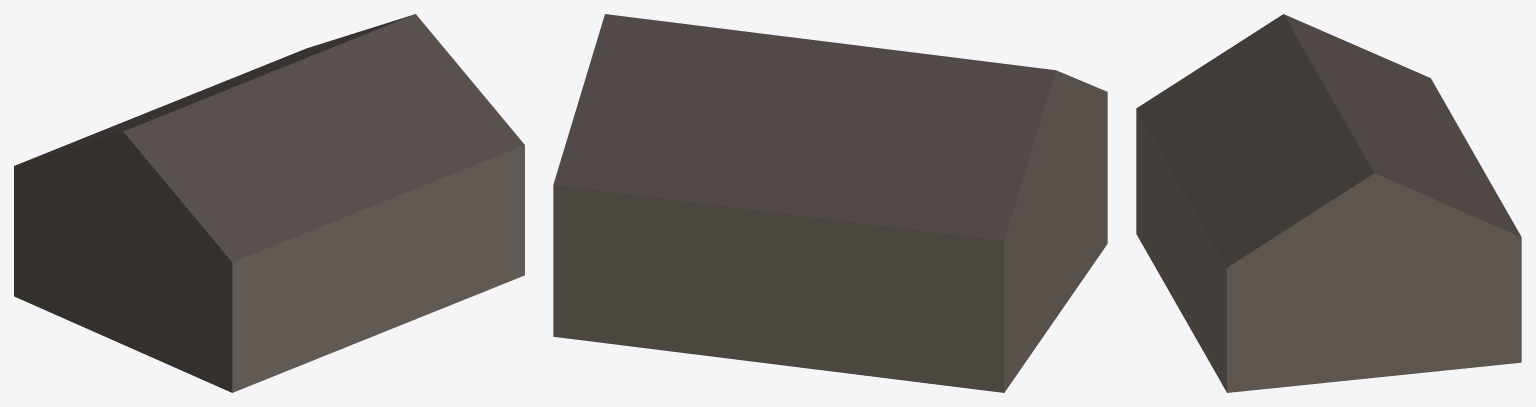
3 views of the same model, side by side, from view 1: azimuth 30°, elevation 25°; view 2: azimuth 150°, elevation 25°; view 3: azimuth 270°, elevation 25° (orthographic). The views are drawn at different scales.
Visible parts, largest first — view 1: HP-w859457417; view 2: HP-w859457417; view 3: HP-w859457417.
Boxes of the visible parts, left/top/right/bottom form: HP-w859457417: left=14, top=14, right=524, bottom=392; HP-w859457417: left=553, top=14, right=1107, bottom=392; HP-w859457417: left=1136, top=14, right=1521, bottom=392.
Size of the model in its own units: 19.48 by 9.8 by 16.74.
